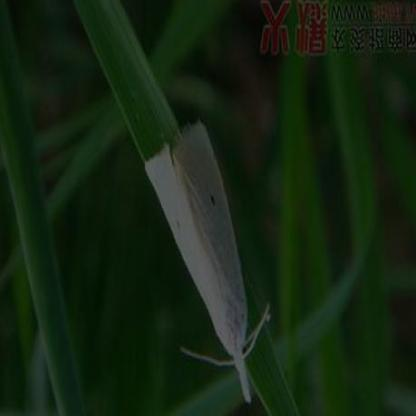stem-borer: (143, 119, 271, 405)
